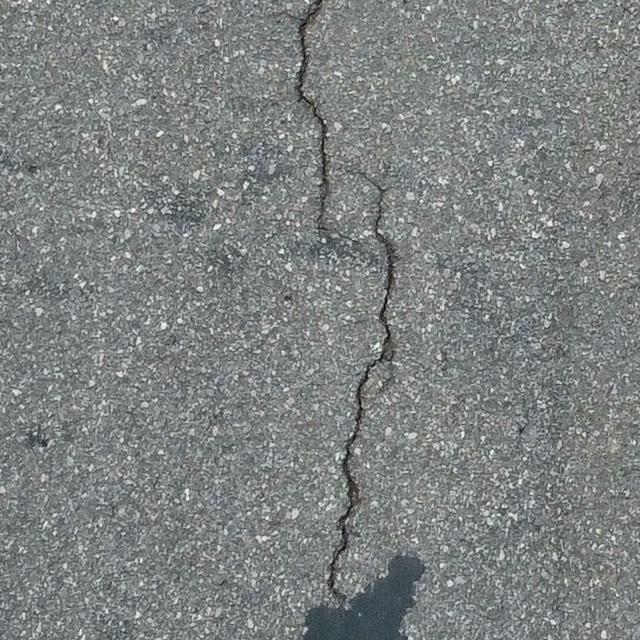LongitudinalCrack: (324, 171, 397, 602), (289, 1, 329, 231)
